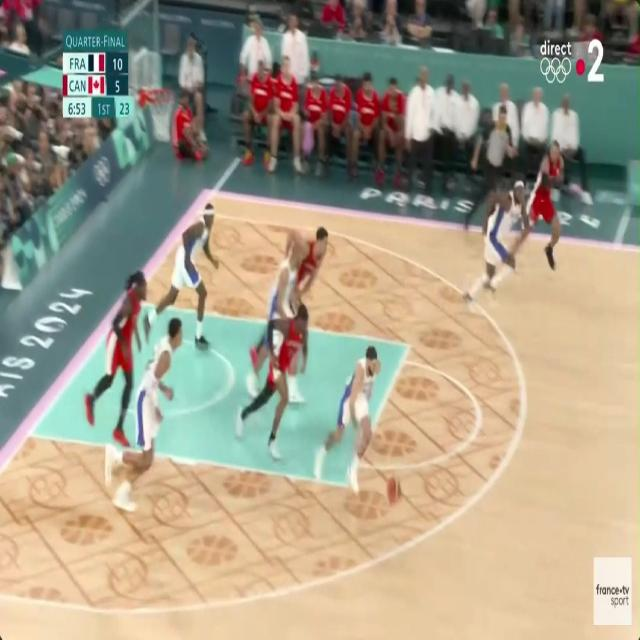ball_handler: (323, 338, 405, 522)
